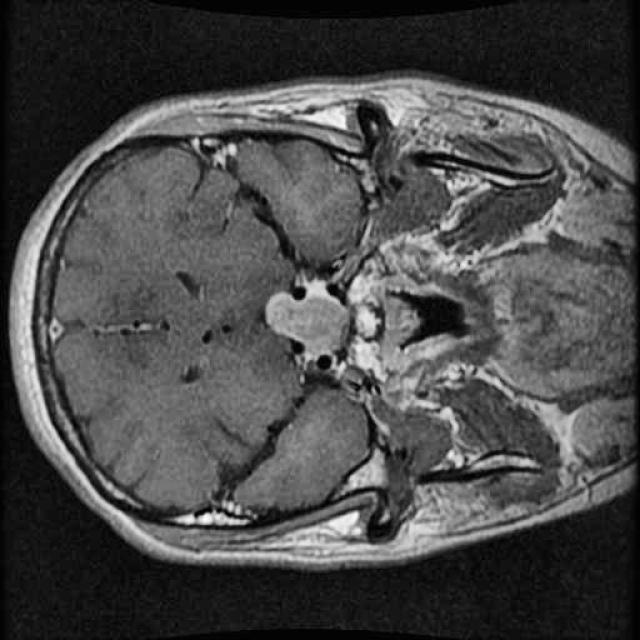Tumor: (260, 280, 365, 370)
